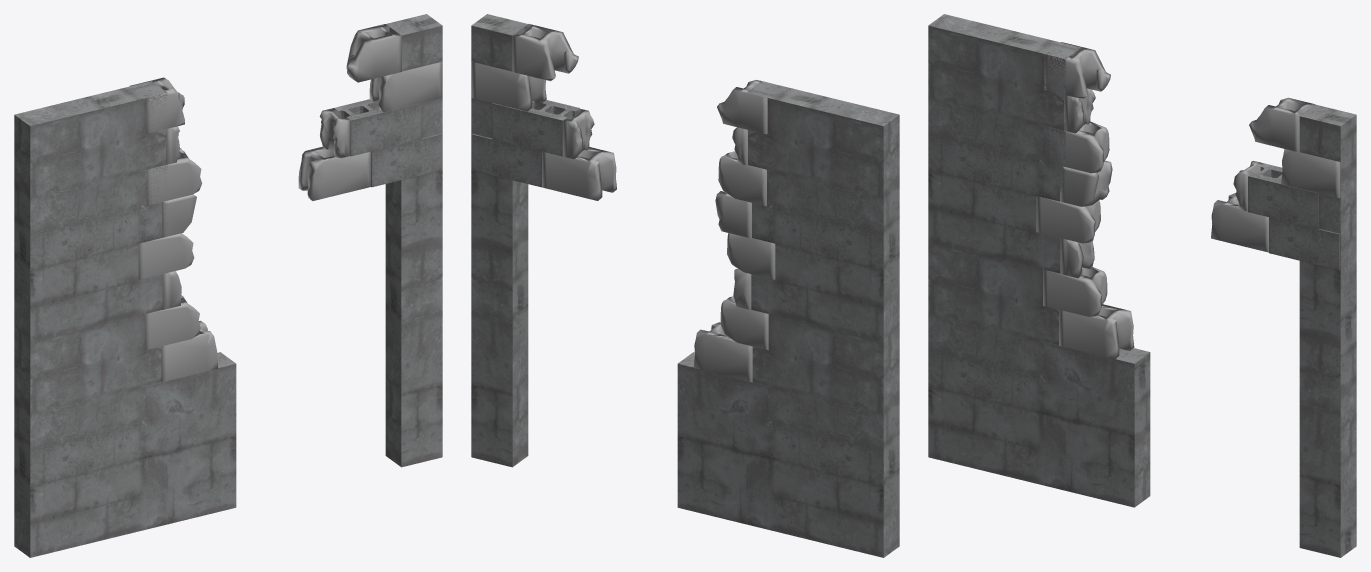
File: wall_door_02_Broken_01.fbx
3 renders of one model, left to right at view 1: azimuth 30°, elevation 25°; view 2: azimuth 150°, elevation 25°; view 3: azimuth 330°, elevation 25°, orthographic.
Visible parts, largest first — view 1: wall_door_02_Broken_01; view 2: wall_door_02_Broken_01; view 3: wall_door_02_Broken_01.
Boxes of the visible parts, left/top/right/bottom form: wall_door_02_Broken_01: left=14, top=14, right=442, bottom=557; wall_door_02_Broken_01: left=471, top=14, right=899, bottom=557; wall_door_02_Broken_01: left=928, top=14, right=1356, bottom=557.
Bounding box in the file's own units: 300 × 300 × 21.67.
